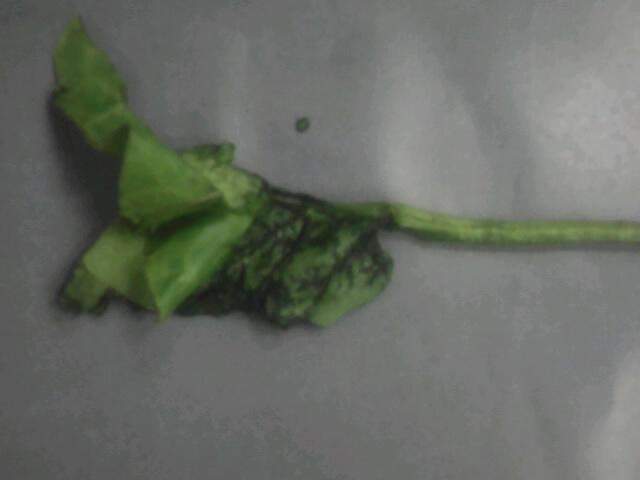yellow: (29, 45, 527, 359)
